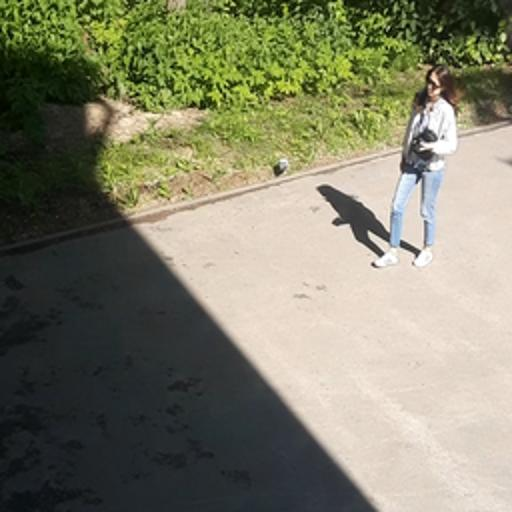Humans: (366, 34, 462, 297)
